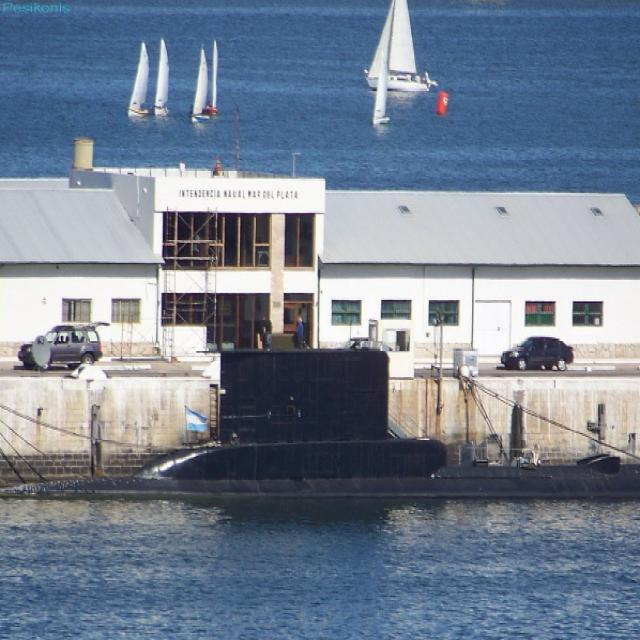submarine: (1, 325, 640, 501)
